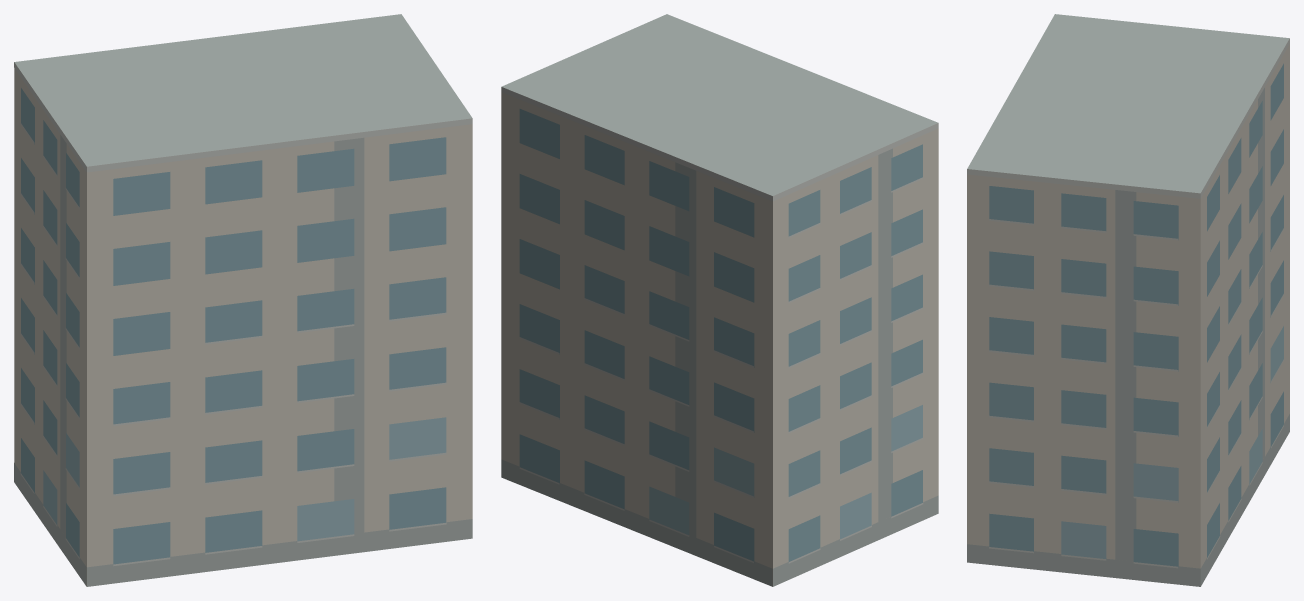
The model's file is survey-upis-32875309.glb.
3 views of the same model, side by side, from view 1: azimuth 30°, elevation 25°; view 2: azimuth 150°, elevation 25°; view 3: azimuth 270°, elevation 25° (orthographic). The views are drawn at different scales.
Parts seen in each view (by area): view 1: survey-upis-32875309.tmp; view 2: survey-upis-32875309.tmp; view 3: survey-upis-32875309.tmp.
Part boxes in pixels (<box>): survey-upis-32875309.tmp: <box>14,14,472,586</box>; survey-upis-32875309.tmp: <box>501,14,938,586</box>; survey-upis-32875309.tmp: <box>967,14,1289,586</box>.
Size of the model in its own units: 17.31 by 17.7 by 13.17.
